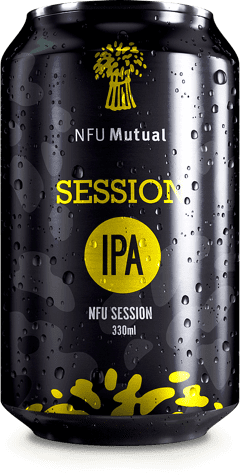beer can: (1, 12, 240, 446)
